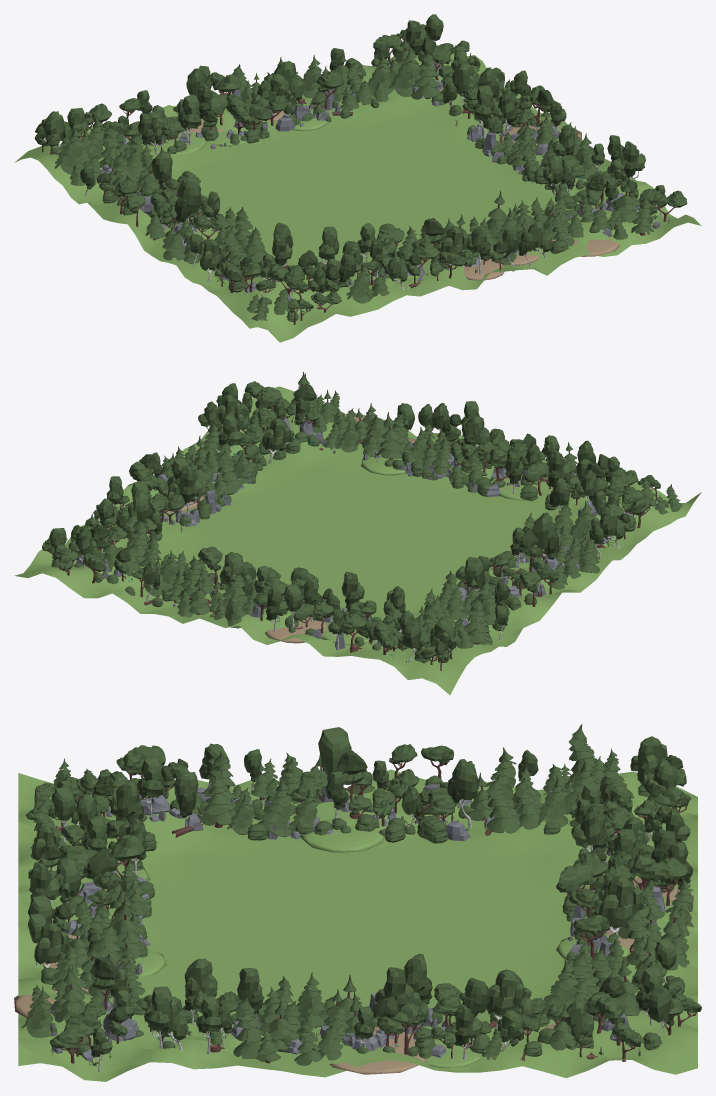
Rendered from spielfeld_wald_border.glb.
3 renders of one model, top to bottom at view 1: azimuth 30°, elevation 25°; view 2: azimuth 150°, elevation 25°; view 3: azimuth 270°, elevation 25°, orthographic. The views are drawn at different scales.
Visible parts, largest first — view 1: ForestTerrain, BirchTree_2_Cube.004, PineTree_3_Cylinder.043, PineTree_3_Cylinder.038, PineTree_3_Cylinder.002, BirchTree_1_Cube.002, BirchTree_3_Cube.023, BirchTree_3_Cube.012, BirchTree_3_Cube.020, BirchTree_3_Cube.016, BirchTree_3_Cube.027, BirchTree_1_Cube.009 (+21 smaller); view 2: ForestTerrain, BirchTree_2_Cube.004, BirchTree_1_Cube.014, PineTree_3_Cylinder.002, BirchTree_3_Cube.020, DirtPatch_7, PineTree_2_Cylinder.013, BirchTree_3_Cube.007, BirchTree_1_Cube.001, BirchTree_1_Cube.002, BirchTree_3_Cube.015, BirchTree_1_Cube.012 (+13 smaller); view 3: ForestTerrain, BirchTree_1_Cube.012, DirtPatch_17, BirchTree_1_Cube.016, DirtPatch_12, PineTree_3_Cylinder.045, PineTree_3_Cylinder.015, BirchTree_3_Cube.012, PineTree_3_Cylinder.013, BirchTree_2_Cube.004, BirchTree_2_Cube.008, BirchTree_1_Cube.013 (+75 smaller).
Boxes of the visible parts, x1,y1,x2,y2 form: ForestTerrain: (15, 45, 701, 342); BirchTree_2_Cube.004: (174, 179, 201, 233); PineTree_3_Cylinder.043: (411, 50, 442, 99); PineTree_3_Cylinder.038: (389, 47, 418, 96); PineTree_3_Cylinder.002: (54, 126, 84, 174); BirchTree_1_Cube.002: (37, 111, 71, 150); BirchTree_3_Cube.023: (491, 88, 517, 133); BirchTree_3_Cube.012: (178, 94, 201, 144); BirchTree_3_Cube.020: (473, 85, 494, 138); BirchTree_3_Cube.016: (466, 225, 490, 274); BirchTree_3_Cube.027: (622, 141, 645, 180); BirchTree_1_Cube.009: (440, 226, 468, 270); ForestTerrain: (14, 386, 701, 694); BirchTree_2_Cube.004: (531, 512, 559, 561); BirchTree_1_Cube.014: (262, 418, 294, 463); PineTree_3_Cylinder.002: (464, 596, 490, 644); BirchTree_3_Cube.020: (179, 465, 203, 513); DirtPatch_7: (265, 616, 325, 643); PineTree_2_Cylinder.013: (376, 412, 402, 459); BirchTree_3_Cube.007: (548, 449, 572, 486); BirchTree_1_Cube.001: (597, 509, 624, 548); BirchTree_1_Cube.002: (430, 619, 456, 659); BirchTree_3_Cube.015: (266, 587, 288, 632); BirchTree_1_Cube.012: (219, 552, 243, 586); ForestTerrain: (18, 769, 697, 1081); BirchTree_1_Cube.012: (598, 875, 646, 934); DirtPatch_17: (300, 819, 384, 852); BirchTree_1_Cube.016: (486, 969, 531, 1031); DirtPatch_12: (329, 1026, 426, 1074); PineTree_3_Cylinder.045: (233, 994, 264, 1058); PineTree_3_Cylinder.015: (486, 776, 520, 833); BirchTree_3_Cube.012: (571, 805, 607, 852); PineTree_3_Cylinder.013: (258, 778, 292, 836); BirchTree_2_Cube.004: (318, 727, 351, 808); BirchTree_2_Cube.008: (447, 759, 478, 828); BirchTree_1_Cube.013: (34, 922, 70, 967).
Size of the model in its own units: 40.75 by 6.27 by 40.51.
